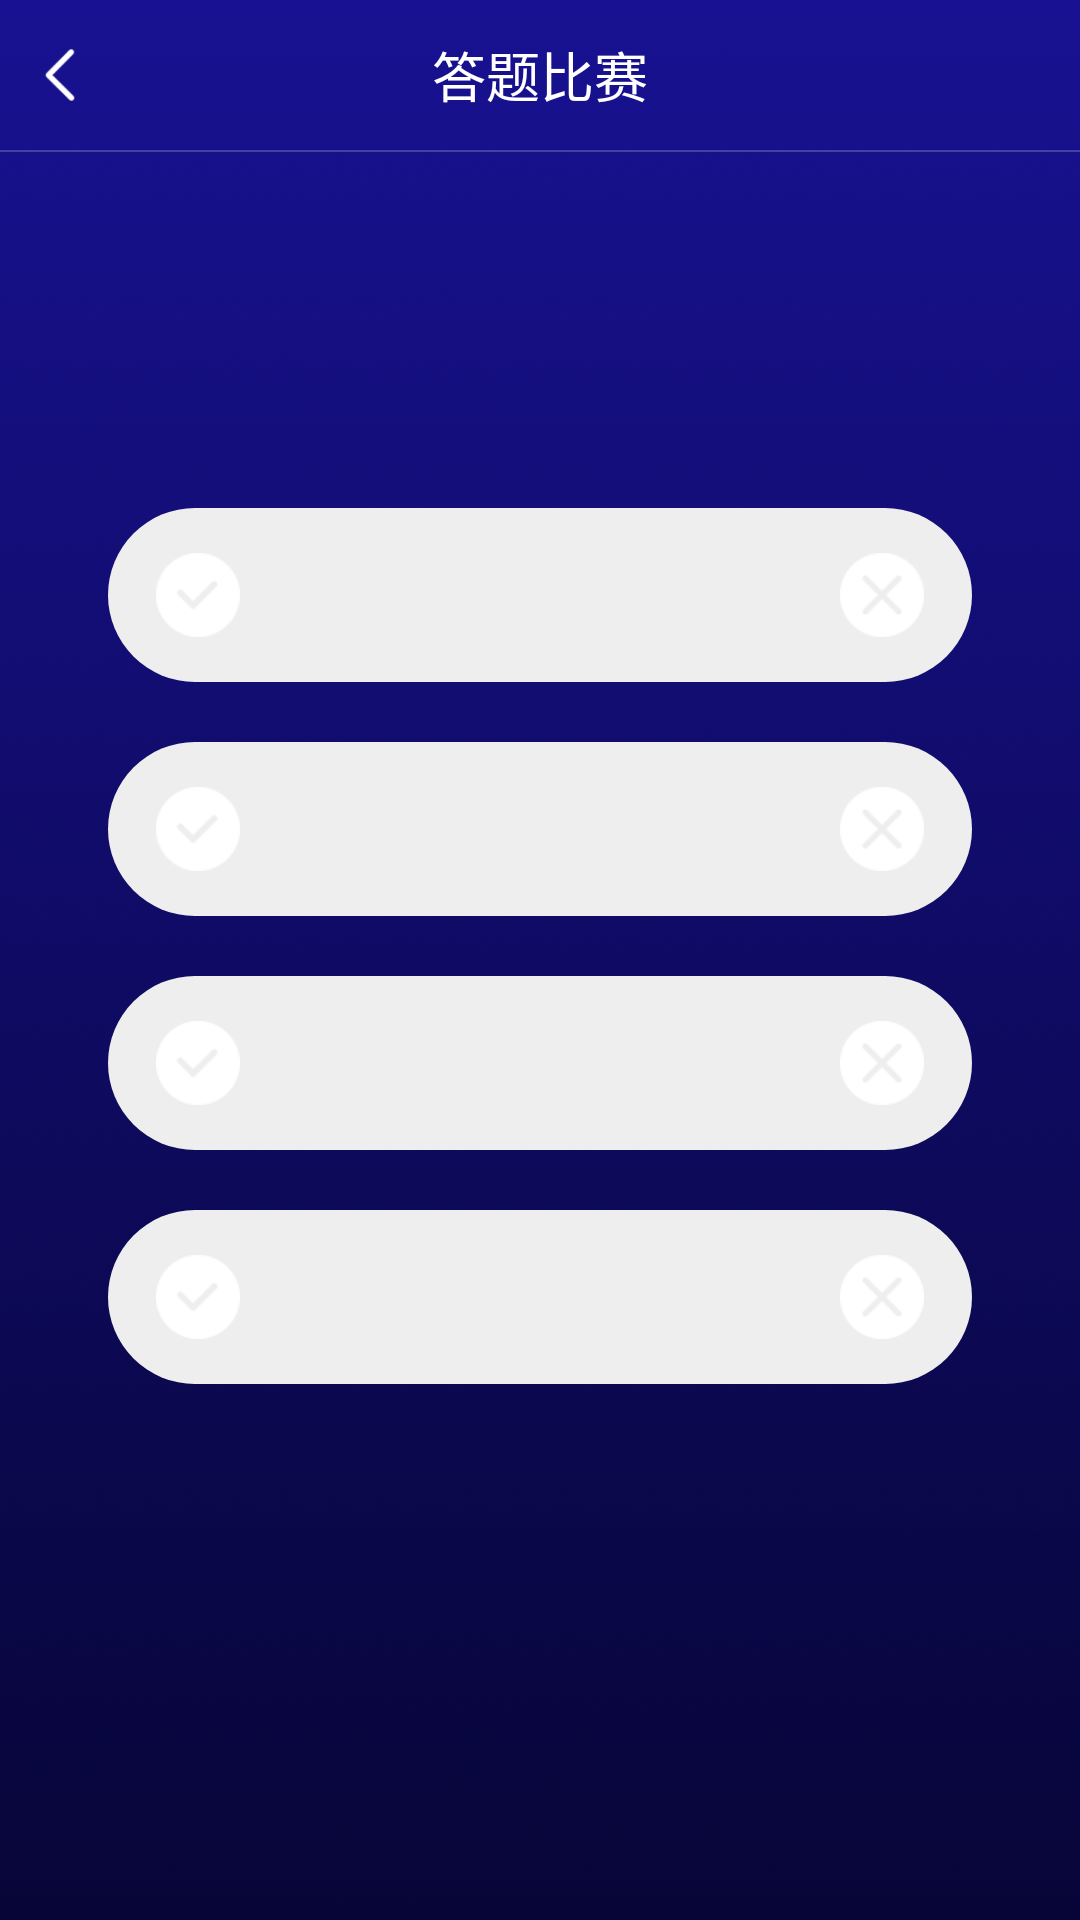

Where icons sit on this 1080w x 1920h app screen, as region(x1, y1, x2, y2):
back: region(45, 49, 75, 101)
